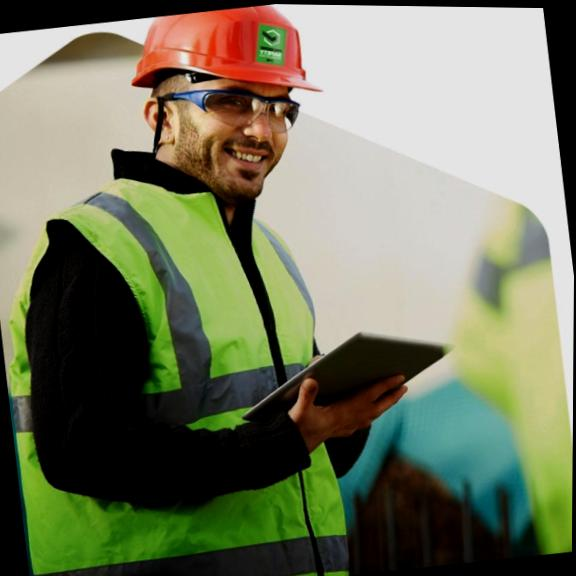safety_vest: (0, 158, 375, 576)
